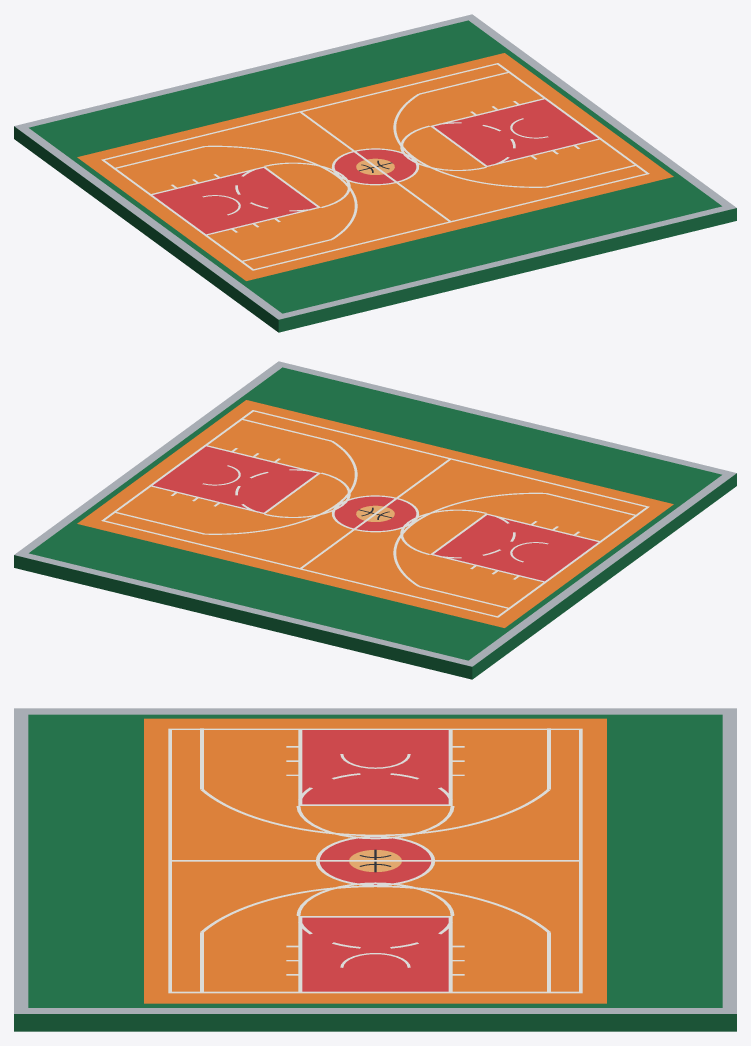
The model's file is quadra_basquete.glb.
3 views of the same model, one above another, from view 1: azimuth 30°, elevation 25°; view 2: azimuth 150°, elevation 25°; view 3: azimuth 270°, elevation 25° (orthographic). The views are drawn at different scales.
Parts seen in each view (by area): view 1: quadra_basquete; view 2: quadra_basquete; view 3: quadra_basquete.
Boxes of the visible parts, x1=… form: quadra_basquete: x1=14, y1=14, x2=736, y2=332; quadra_basquete: x1=14, y1=361, x2=736, y2=679; quadra_basquete: x1=14, y1=708, x2=736, y2=1031.
Size of the model in its own units: 15 by 0.4108 by 15.
Materials: 1 (1 with a texture image).
